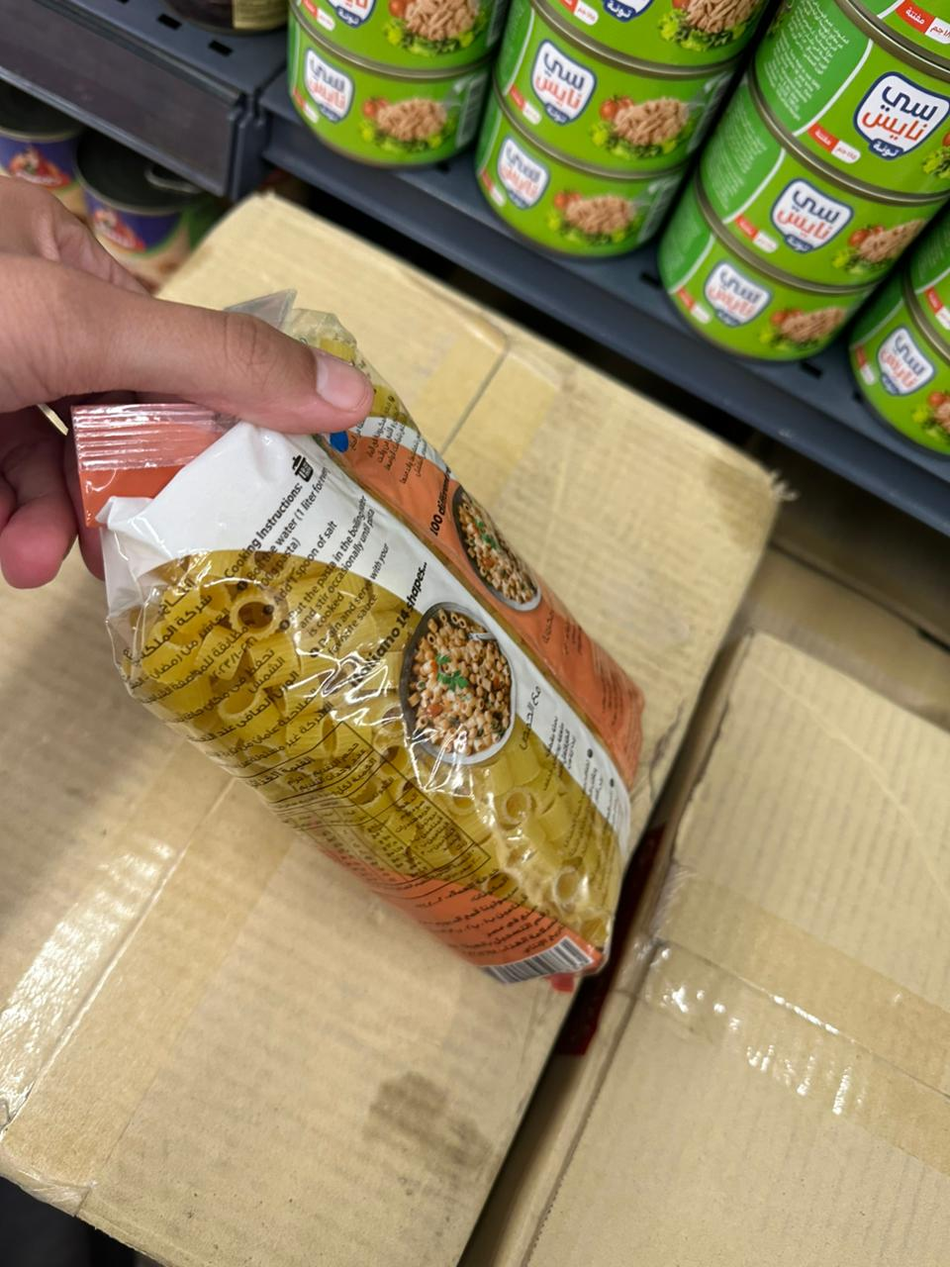pasta: (107, 296, 608, 1062)
